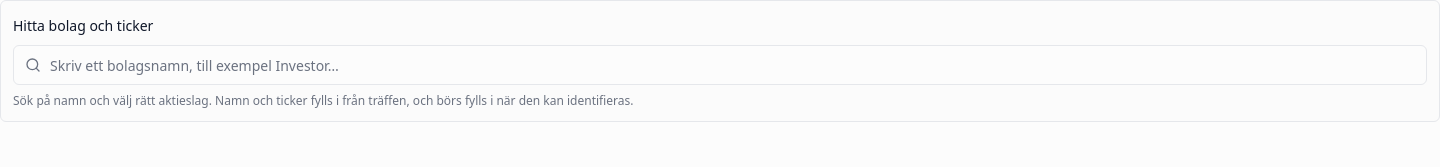
it: company name search › offers manual entry when no company matches
Type "Unlisted company" into the dropdown at (720, 65), box [13,45,1427,85]
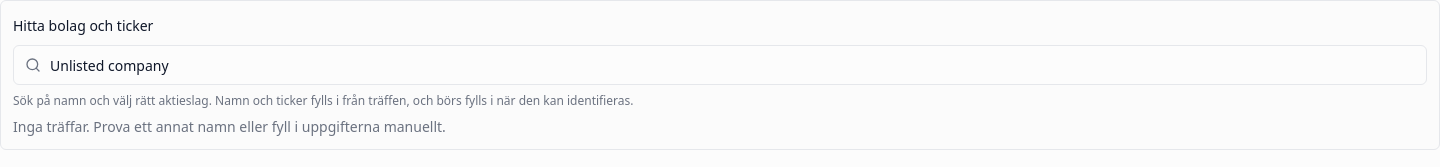
Expected: the text "Inga träffar. Prova ett annat namn eller fyll i uppgifterna manuellt." is shown, [13,117,446,136]
